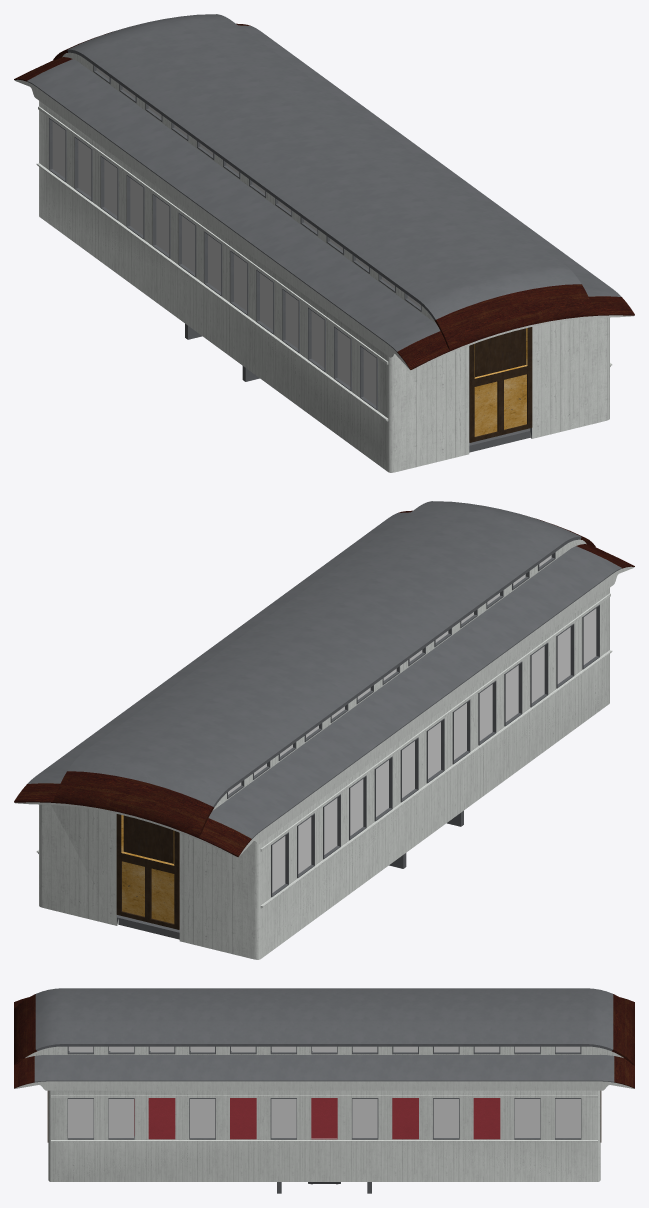
Rendered from vagone_cabine_fix.fbx.
The picture shows the model from 3 angles, top to bottom: view 1: azimuth 30°, elevation 25°; view 2: azimuth 150°, elevation 25°; view 3: azimuth 270°, elevation 25°; orthographic projection. The views are drawn at different scales.
Parts seen in each view (by area): view 1: Outside_frame_vc, Outside_walls_vc, windows_vc, Outside_frame_wood_vc, window_frames_vc, door_anterior_vc, Little_windows_vc, Outside_frame_indoor_vc; view 2: Outside_frame_vc, Outside_walls_vc, windows_vc, Outside_frame_wood_vc, window_frames_vc, door_posterior_vc, Little_windows_vc; view 3: Outside_frame_vc, Outside_walls_vc, windows_vc, Floor_vc, Outside_frame_wood_vc, window_frames_vc, Little_windows_vc.
Boxes of the visible parts, x1=… form: Outside_frame_vc: x1=27, y1=14, x2=621, y2=443; Outside_walls_vc: x1=14, y1=52, x2=633, y2=472; windows_vc: x1=52, y1=121, x2=376, y2=405; Outside_frame_wood_vc: x1=14, y1=23, x2=634, y2=369; window_frames_vc: x1=49, y1=65, x2=421, y2=410; door_anterior_vc: x1=469, y1=327, x2=532, y2=442; Little_windows_vc: x1=96, y1=68, x2=420, y2=307; Outside_frame_indoor_vc: x1=469, y1=428, x2=531, y2=452; Outside_frame_vc: x1=27, y1=501, x2=621, y2=930; Outside_walls_vc: x1=15, y1=539, x2=634, y2=959; windows_vc: x1=272, y1=608, x2=596, y2=892; Outside_frame_wood_vc: x1=14, y1=510, x2=634, y2=856; window_frames_vc: x1=227, y1=552, x2=599, y2=897; door_posterior_vc: x1=116, y1=814, x2=179, y2=929; Little_windows_vc: x1=228, y1=555, x2=551, y2=794; Outside_frame_vc: x1=34, y1=988, x2=614, y2=1193; Outside_walls_vc: x1=14, y1=1046, x2=634, y2=1181; windows_vc: x1=68, y1=1046, x2=580, y2=1138; Floor_vc: x1=134, y1=1098, x2=500, y2=1139; Outside_frame_wood_vc: x1=14, y1=994, x2=634, y2=1088; window_frames_vc: x1=67, y1=1046, x2=581, y2=1139; Little_windows_vc: x1=69, y1=1046, x2=580, y2=1052.
Size of the model in its own units: 475 by 363 by 1442.
10 materials, 9 textured.
